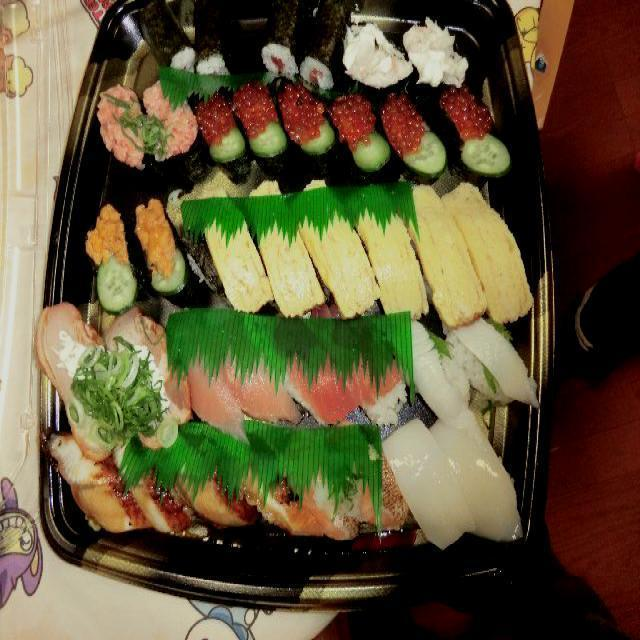sushi: (32, 0, 563, 598)
